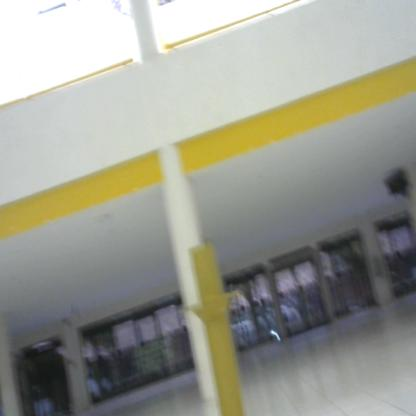pole: (170, 232, 257, 416)
